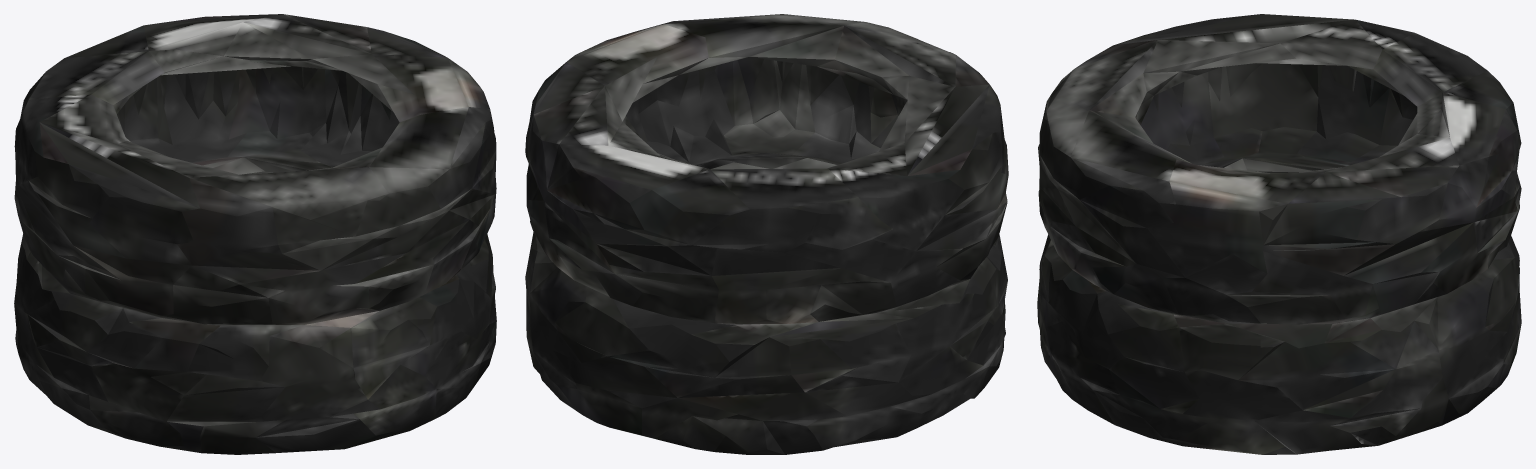
The model's file is tires.glb.
3 renders of one model, left to right at view 1: azimuth 30°, elevation 25°; view 2: azimuth 150°, elevation 25°; view 3: azimuth 270°, elevation 25°, orthographic.
Visible parts, largest first — view 1: Mesh_0; view 2: Mesh_0; view 3: Mesh_0.
Boxes of the visible parts, x1,y1,x2,y2 form: Mesh_0: (14, 14, 496, 454); Mesh_0: (525, 14, 1008, 454); Mesh_0: (1037, 14, 1521, 454).
Size of the model in its own units: 1.89 by 1.15 by 1.9.
1 material, 1 textured.
